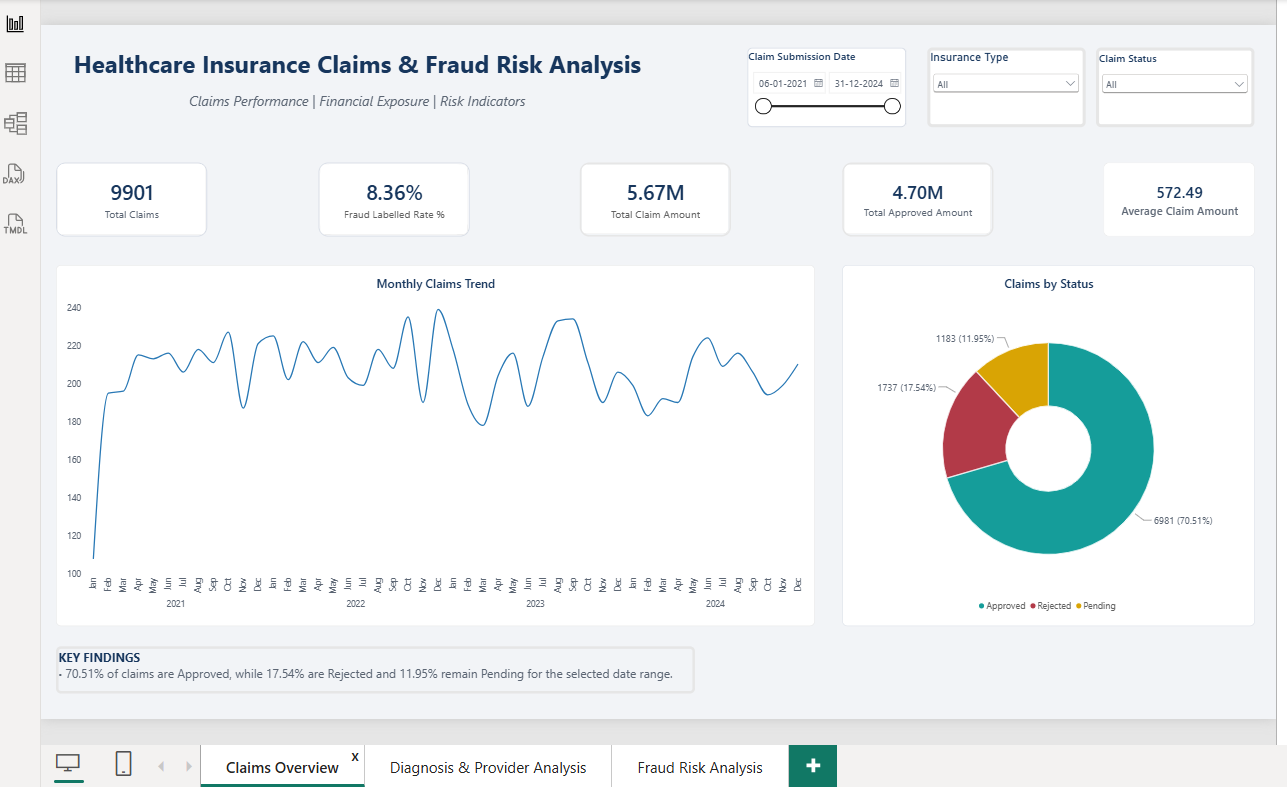

The dashboard page shown, as its layout file describes it:
{"tool":"powerbi","page":{"name":"Claims Overview","canvas":[1920,1080],"ordinal":0},"visuals":[{"type":"cardVisual","fields":{"Data":["#Measures.Total Claims"]},"box":[23.3,213.8,235,115],"z":0},{"type":"cardVisual","fields":{"Data":["#Measures.Fraud Labelled Rate %"]},"box":[430.5,213.8,235,115],"z":1},{"type":"cardVisual","fields":{"Data":["#Measures.Total Claim Amount"]},"box":[837.7,213.8,235,115],"z":2},{"type":"cardVisual","fields":{"Data":["#Measures.Total Approved Amount"]},"box":[1245,213.8,235,115],"z":3},{"type":"cardVisual","fields":{"Data":["#Measures.Average Claim Amount"]},"box":[1652.2,213.8,235,115],"z":4},{"type":"textbox","box":[23.3,35,936.9,143.8],"z":5},{"type":"slicer","title":"Claim Submission Date","fields":{"Values":["Calendar.Date"]},"box":[1098.2,35,246.9,124.4],"z":6},{"type":"slicer","title":"Insurance Type","fields":{"Values":["healthcare_fraud_detection.Insurance_Type"]},"box":[1378.1,35,246,124.4],"z":7},{"type":"slicer","title":"Claim Status","fields":{"Values":["healthcare_fraud_detection.Claim_Status"]},"box":[1640.5,35,246,124.4],"z":8},{"type":"lineChart","title":"Monthly Claims Trend","fields":{"Category":["Calendar.Year","Calendar.Month Short"],"Y":["CountNonNull(healthcare_fraud_detection.Claim_ID)"]},"box":[23.3,373.2,1179.8,561.7],"z":10},{"type":"donutChart","title":"Claims by Status","fields":{"Category":["healthcare_fraud_detection.Claim_Status"],"Y":["CountNonNull(healthcare_fraud_detection.Claim_ID)"]},"box":[1245.9,373.2,641.4,561.7],"z":11},{"type":"textbox","box":[23.3,966,993.2,73.9],"z":12}]}

Visuals, with their boxes on the page's 1920x1080 design canvas (x1, y1, x2, y2). These are canvas units, not pixel positions in the 1287x787 screenshot, which may show the page scaled, cropped or inside an application window:
cardVisual - #Measures.Total Claims: bbox(23, 214, 258, 329)
cardVisual - #Measures.Fraud Labelled Rate %: bbox(430, 214, 666, 329)
cardVisual - #Measures.Total Claim Amount: bbox(838, 214, 1073, 329)
cardVisual - #Measures.Total Approved Amount: bbox(1245, 214, 1480, 329)
cardVisual - #Measures.Average Claim Amount: bbox(1652, 214, 1887, 329)
textbox: bbox(23, 35, 960, 179)
"Claim Submission Date" slicer: bbox(1098, 35, 1345, 159)
"Insurance Type" slicer: bbox(1378, 35, 1624, 159)
"Claim Status" slicer: bbox(1640, 35, 1886, 159)
"Monthly Claims Trend" lineChart: bbox(23, 373, 1203, 935)
"Claims by Status" donutChart: bbox(1246, 373, 1887, 935)
textbox: bbox(23, 966, 1016, 1040)
